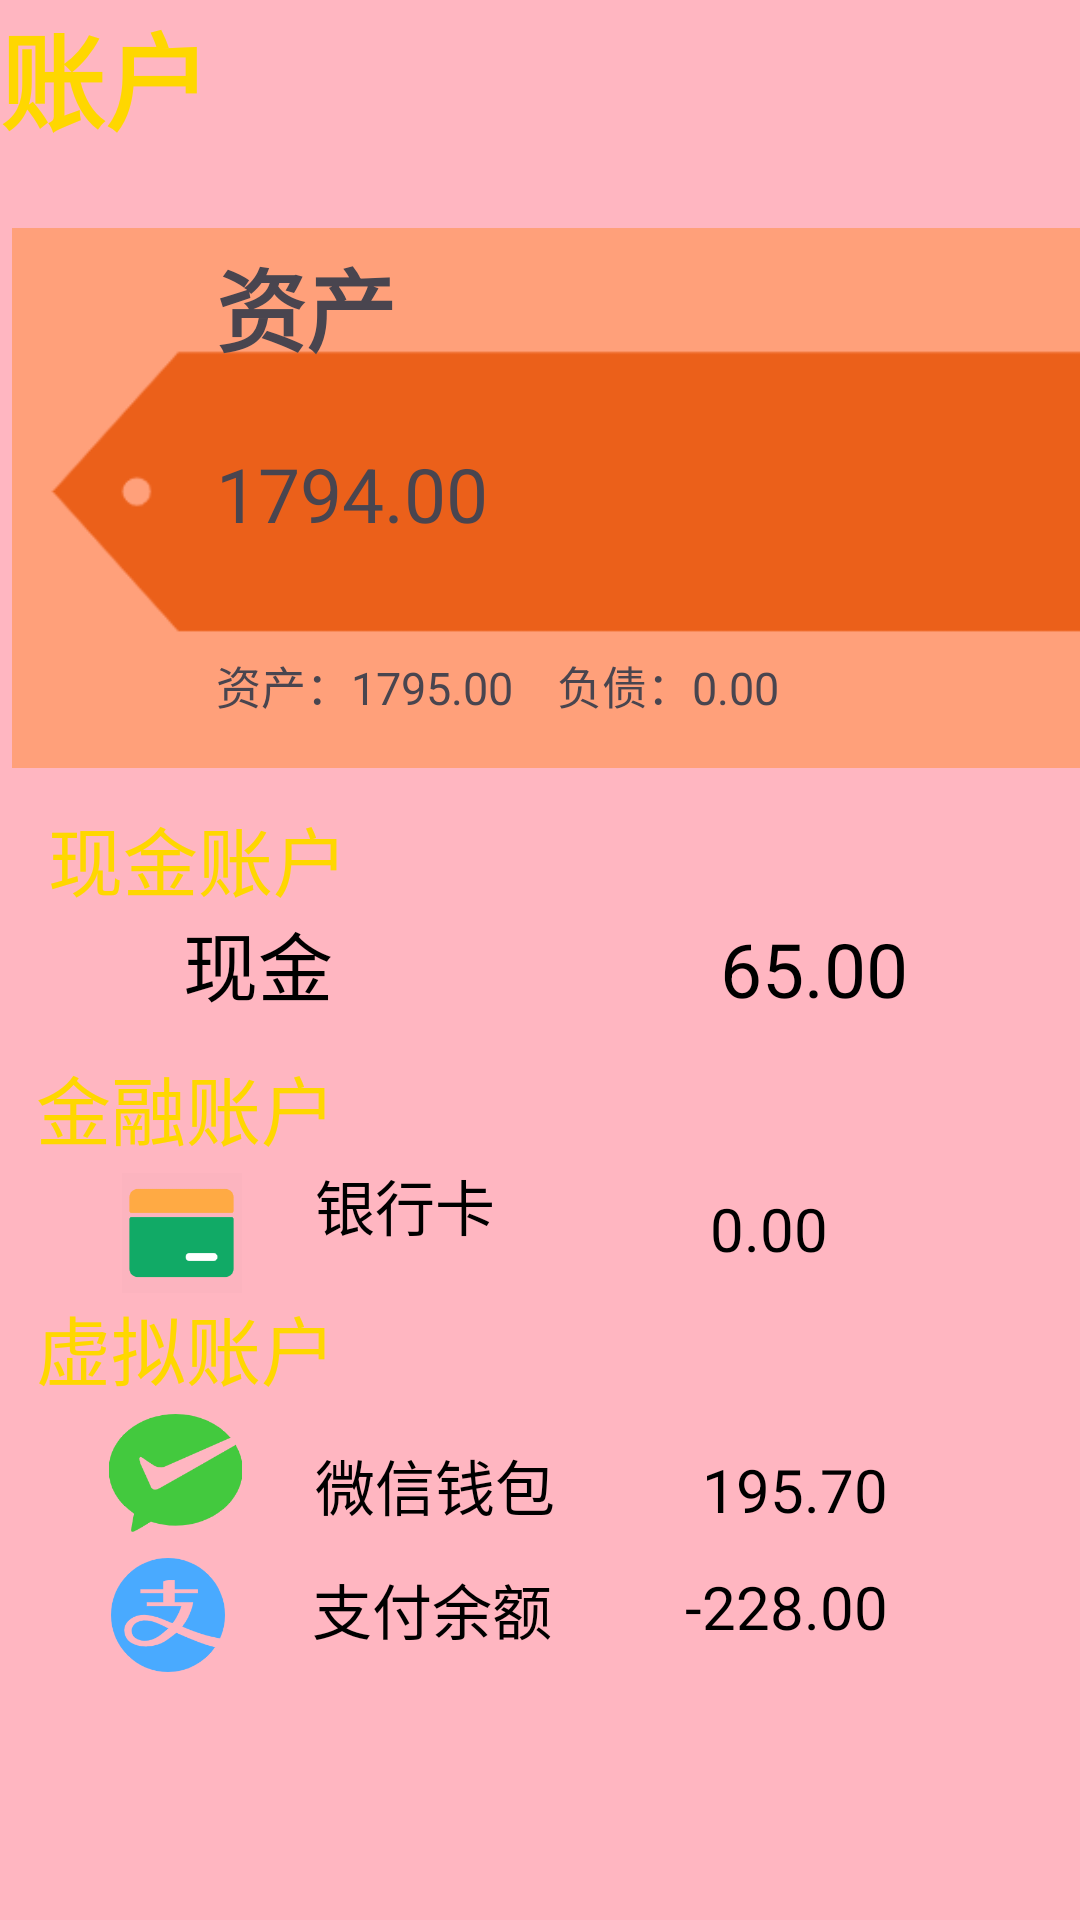

Icon bounding boxes for this 1080x1920 phone screenshot, format bbox=(x1, y1, x2, y2):
card: bbox=(129, 1189, 234, 1277)
